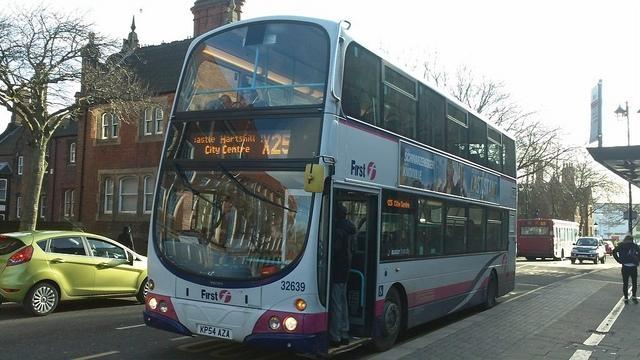bus: (140, 16, 517, 356), (518, 219, 578, 260)
car: (0, 229, 149, 317), (571, 237, 607, 264), (603, 240, 615, 256)
truck: (570, 237, 605, 264)
